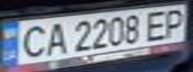0: (109, 14, 130, 47)
2: (69, 17, 93, 53), (90, 15, 112, 51)
8: (121, 11, 148, 44)
A: (39, 20, 69, 56)
C: (12, 22, 51, 60)
E: (139, 8, 175, 42)
P: (157, 6, 193, 39)
